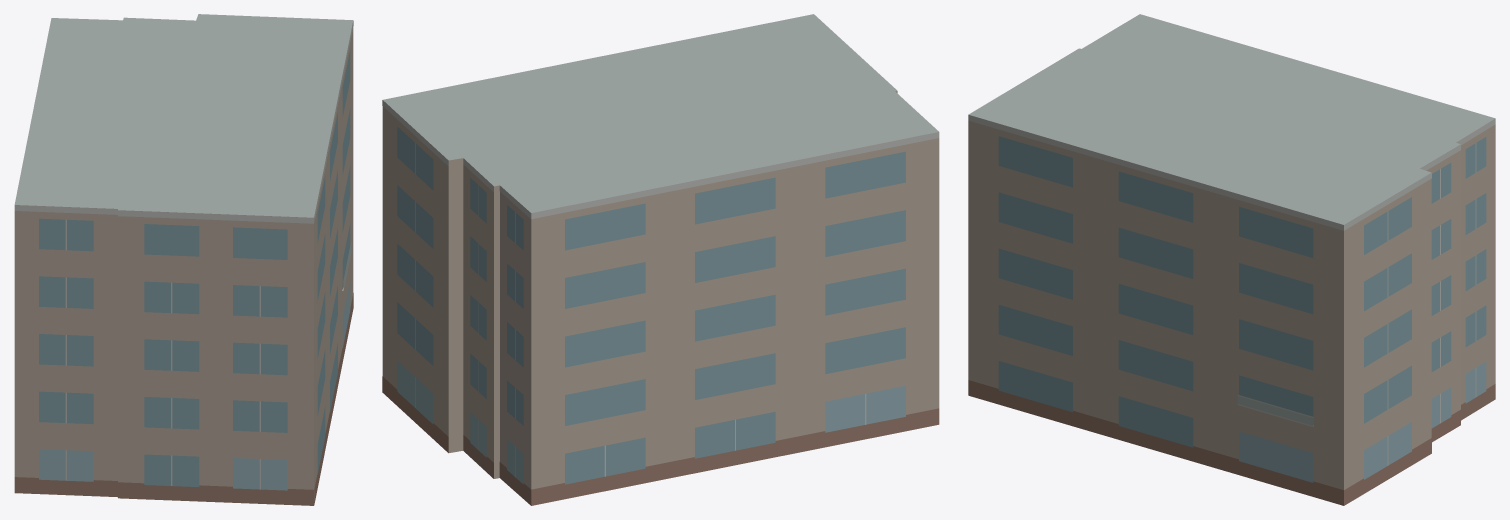
Rendered from survey-upis-32656368.glb.
3 renders of one model, left to right at view 1: azimuth 30°, elevation 25°; view 2: azimuth 150°, elevation 25°; view 3: azimuth 270°, elevation 25°, orthographic. The views are drawn at different scales.
Visible parts, largest first — view 1: survey-upis-32656368.tmp; view 2: survey-upis-32656368.tmp; view 3: survey-upis-32656368.tmp.
Boxes of the visible parts, <box> form: survey-upis-32656368.tmp: <box>14,14,353,505</box>; survey-upis-32656368.tmp: <box>382,14,939,505</box>; survey-upis-32656368.tmp: <box>968,14,1495,505</box>.
Size of the model in its own units: 18.93 by 11.75 by 20.
